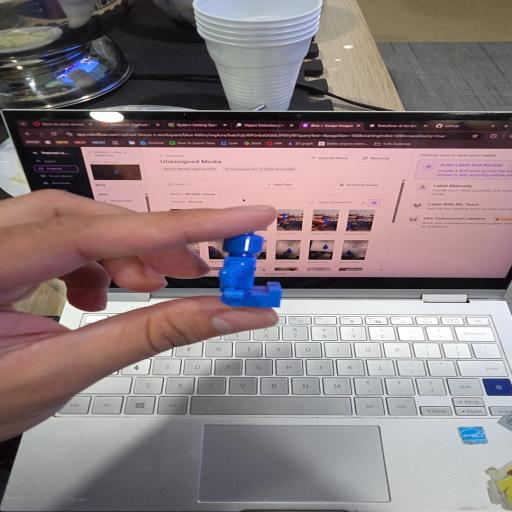Blue: (219, 233, 281, 306)
